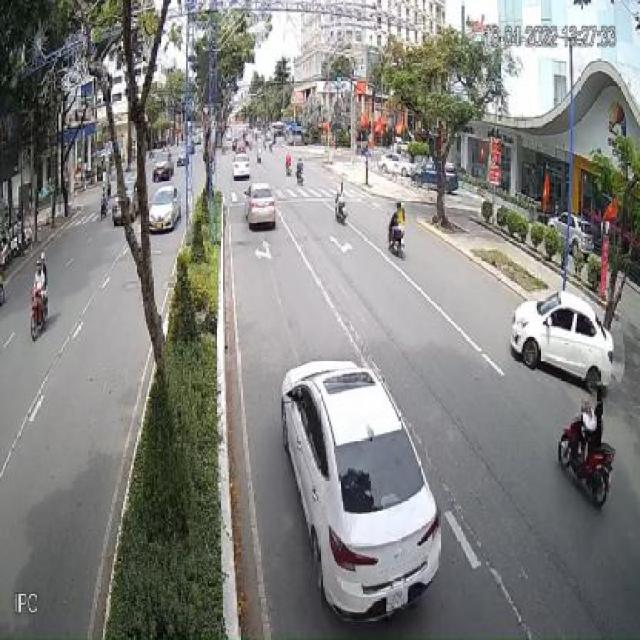car: (279, 357, 437, 621), (509, 288, 619, 393), (148, 187, 181, 234), (248, 184, 280, 232)
motorbike: (558, 398, 615, 509), (27, 270, 47, 340), (384, 202, 404, 258), (115, 192, 127, 230), (336, 190, 348, 227), (98, 189, 107, 221)
